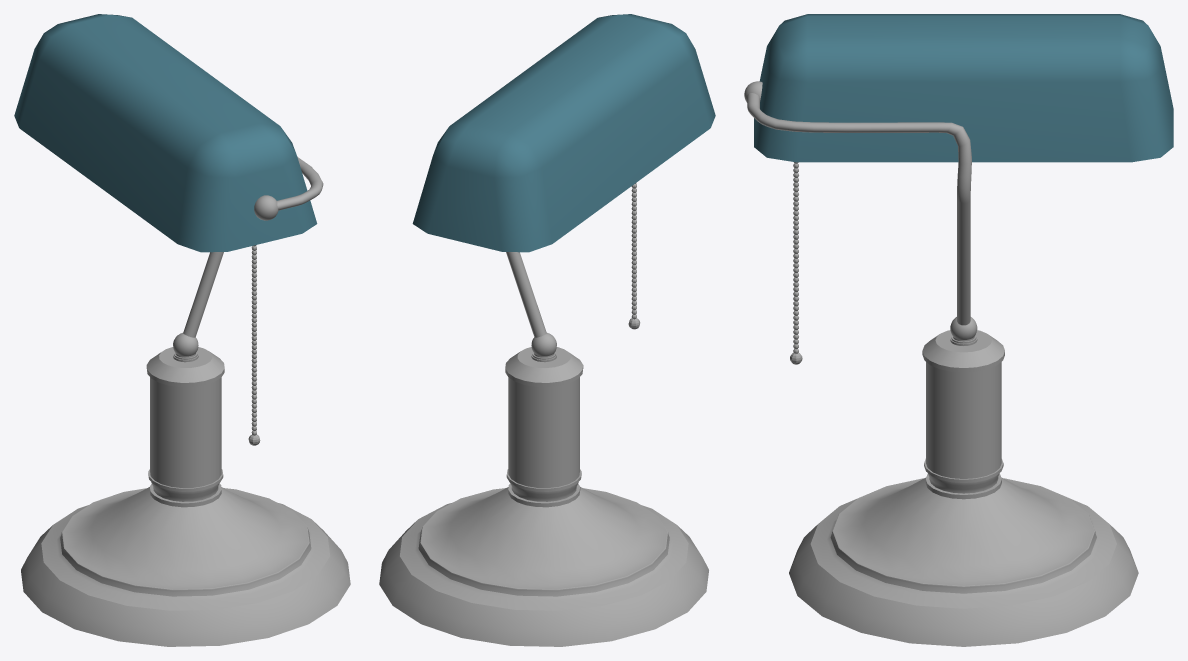
Rendered from vintage_lamp.fbx.
3 renders of one model, left to right at view 1: azimuth 30°, elevation 25°; view 2: azimuth 150°, elevation 25°; view 3: azimuth 270°, elevation 25°, orthographic. The views are drawn at different scales.
Visible parts, largest first — view 1: polySurface405; view 2: polySurface405; view 3: polySurface405.
Part boxes in pixels (x1,y1,x2,y2): polySurface405: (14, 14, 350, 646); polySurface405: (379, 14, 715, 646); polySurface405: (744, 14, 1173, 646).
Size of the model in its own units: 0.1792 by 0.3028 by 0.2198.
